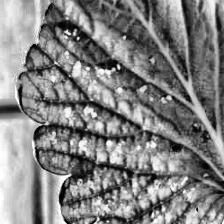Angular Leafspot: (20, 0, 219, 224)
